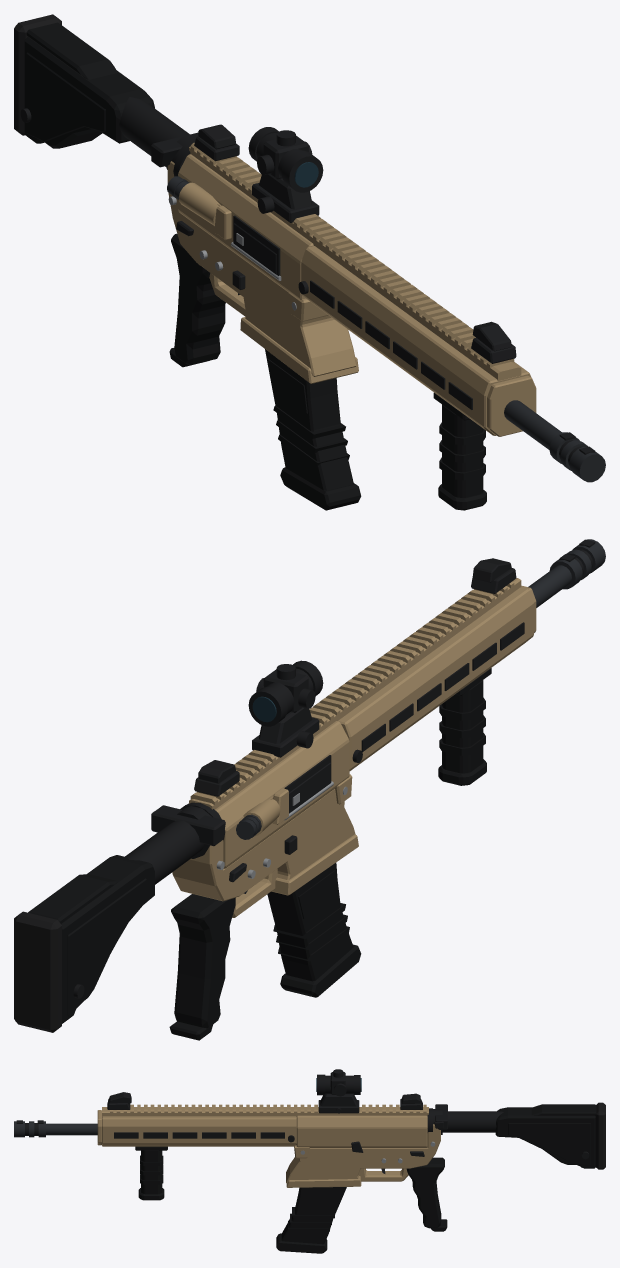
Rendered from auto_rifle.glb.
The picture shows the model from 3 angles, top to bottom: view 1: azimuth 30°, elevation 25°; view 2: azimuth 150°, elevation 25°; view 3: azimuth 270°, elevation 25°; orthographic projection. The views are drawn at different scales.
Visible parts, largest first — view 1: body, mag, optic, sights, charging; view 2: body, mag, optic, sights, charging; view 3: body, mag, optic, sights, charging.
Boxes of the visible parts, x1,y1,x2,y2 form: body: [14, 14, 605, 510]; mag: [265, 349, 361, 510]; optic: [248, 127, 323, 222]; sights: [194, 124, 516, 363]; charging: [151, 132, 198, 167]; body: [14, 539, 605, 1040]; mag: [267, 863, 361, 997]; optic: [248, 660, 323, 757]; sights: [194, 558, 516, 796]; charging: [151, 805, 225, 846]; body: [14, 1102, 605, 1231]; mag: [276, 1187, 346, 1253]; optic: [316, 1069, 361, 1113]; sights: [107, 1092, 422, 1109]; charging: [434, 1104, 447, 1129].
Size of the model in its own units: 0.0703 by 0.2892 by 0.869.
